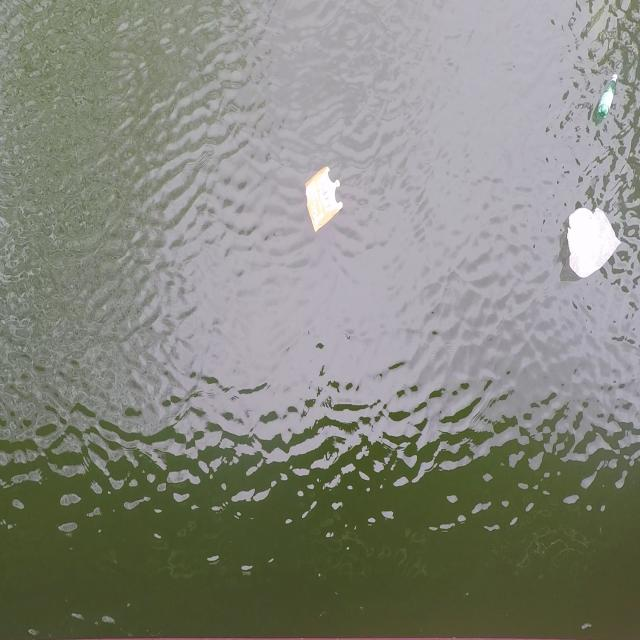Bouteille plastique: (593, 60, 623, 124)
Sac plastique: (557, 202, 626, 282)
